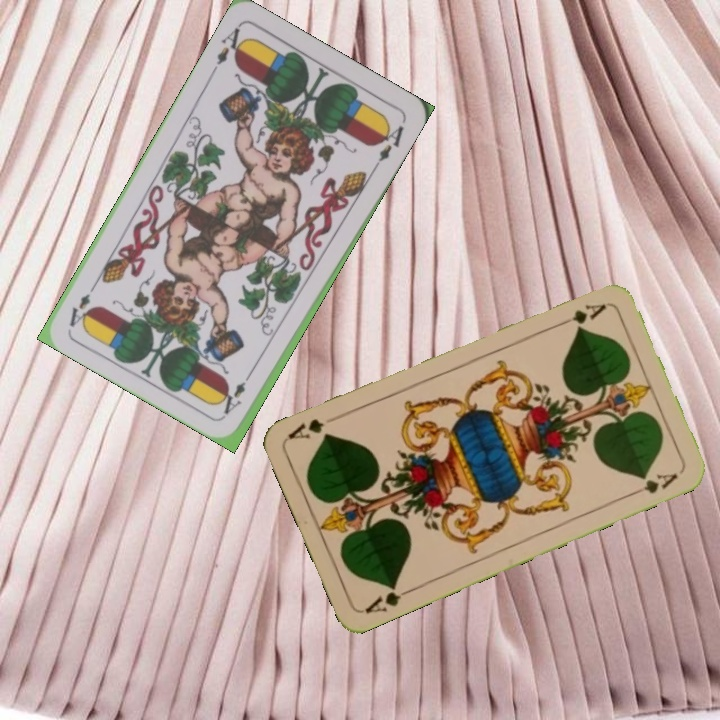EA: (207, 23, 250, 76), (220, 365, 257, 417)
GA: (360, 580, 416, 616), (553, 300, 609, 330)
